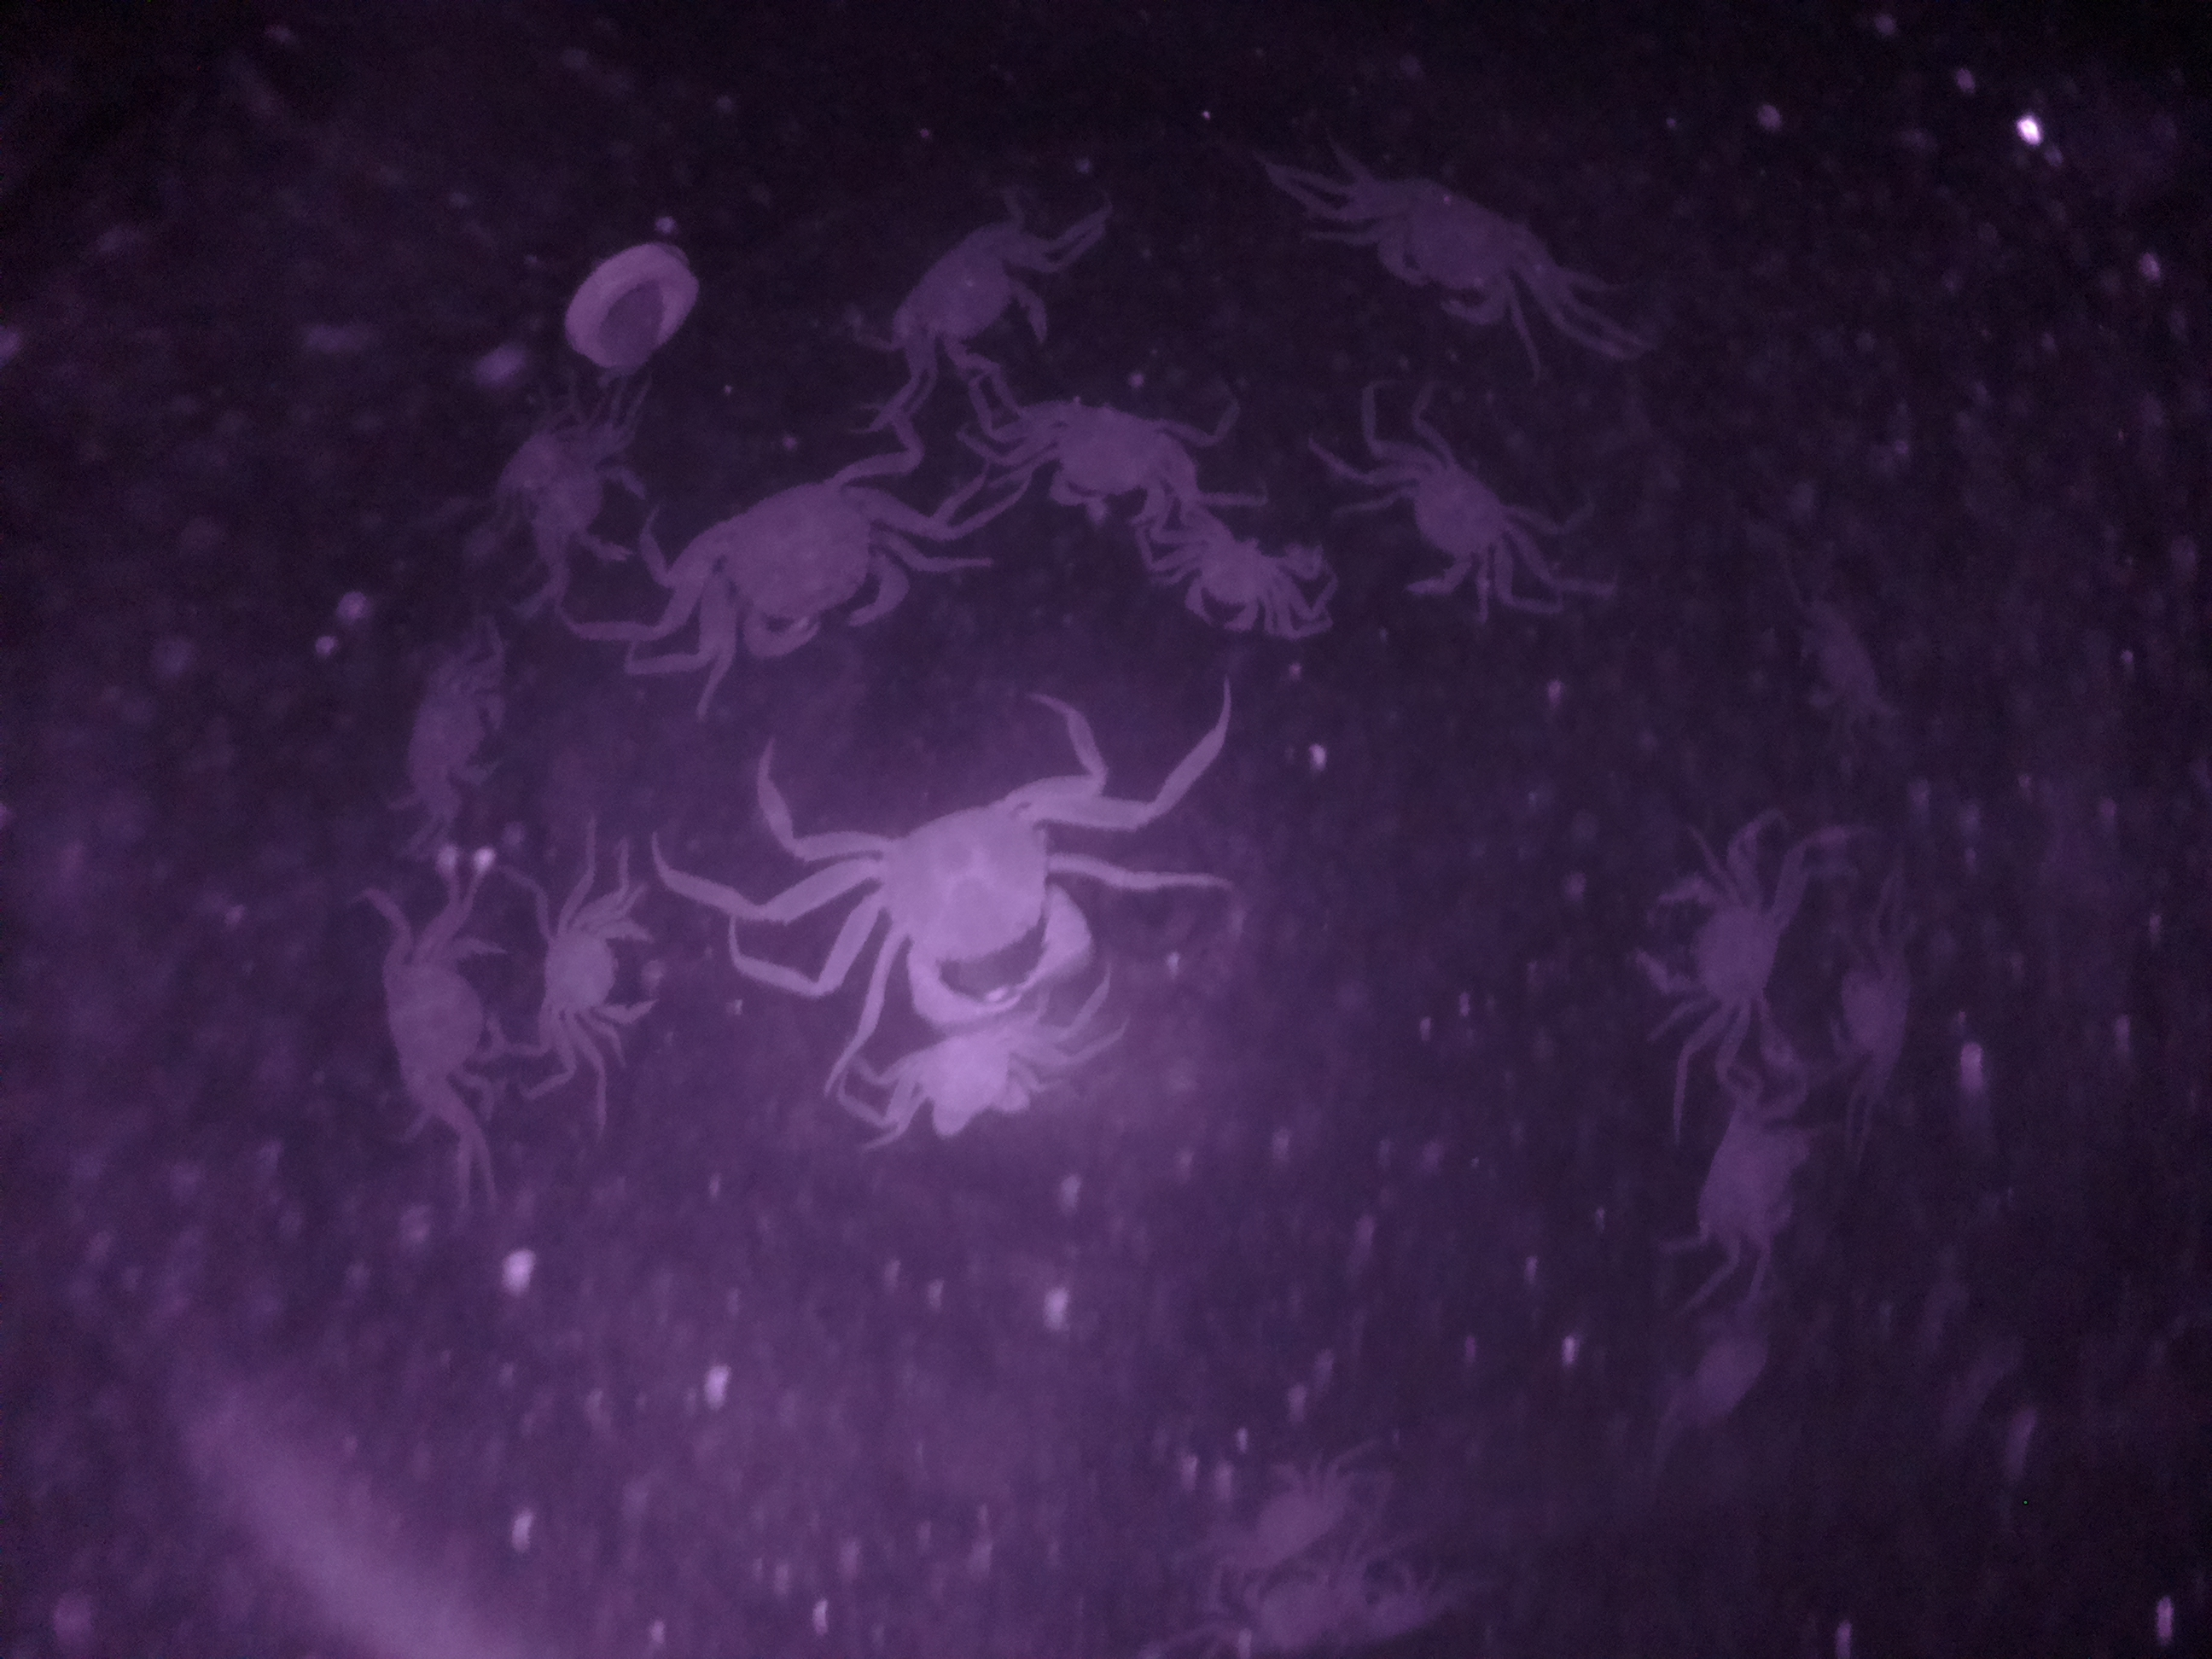Crab: (846, 770, 1120, 1035), (662, 455, 930, 666), (355, 922, 535, 1141), (1346, 169, 1575, 342), (1622, 856, 1831, 1037), (1345, 432, 1538, 612), (894, 232, 1071, 392), (885, 1007, 1071, 1155), (1001, 387, 1197, 519), (529, 884, 681, 1051), (385, 650, 521, 829), (1162, 525, 1306, 647)
